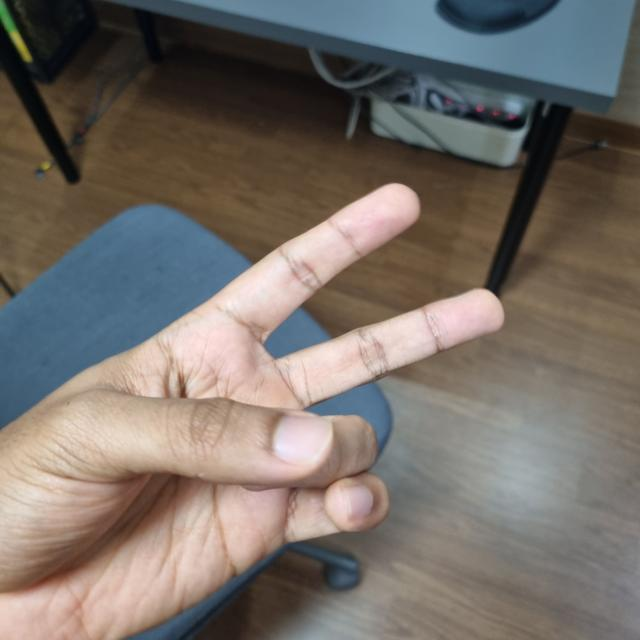Scissors: (3, 186, 498, 637)
